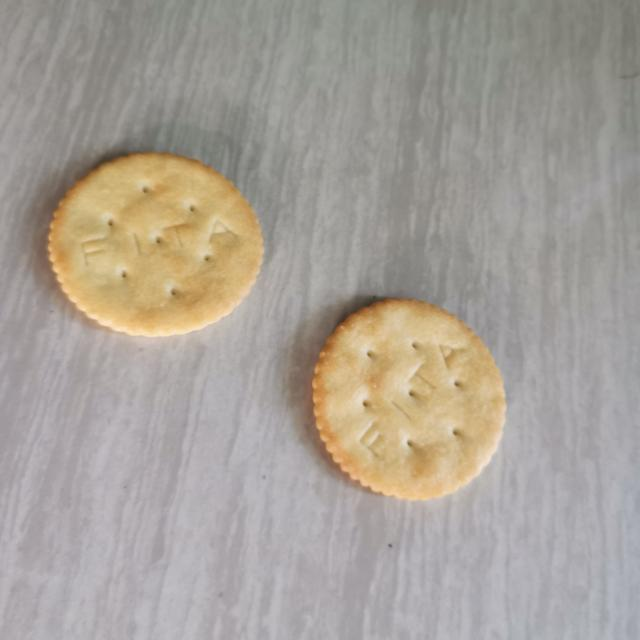Intact: (39, 140, 269, 347), (305, 289, 512, 505)
